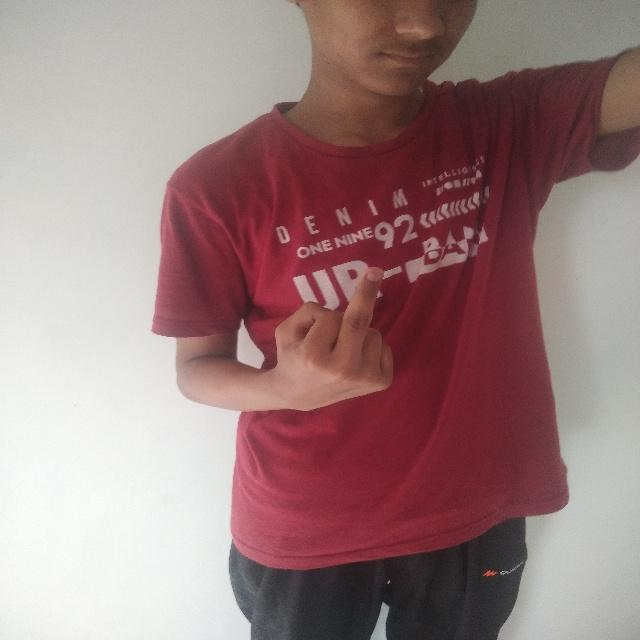Middle Finger: (244, 259, 407, 425)
